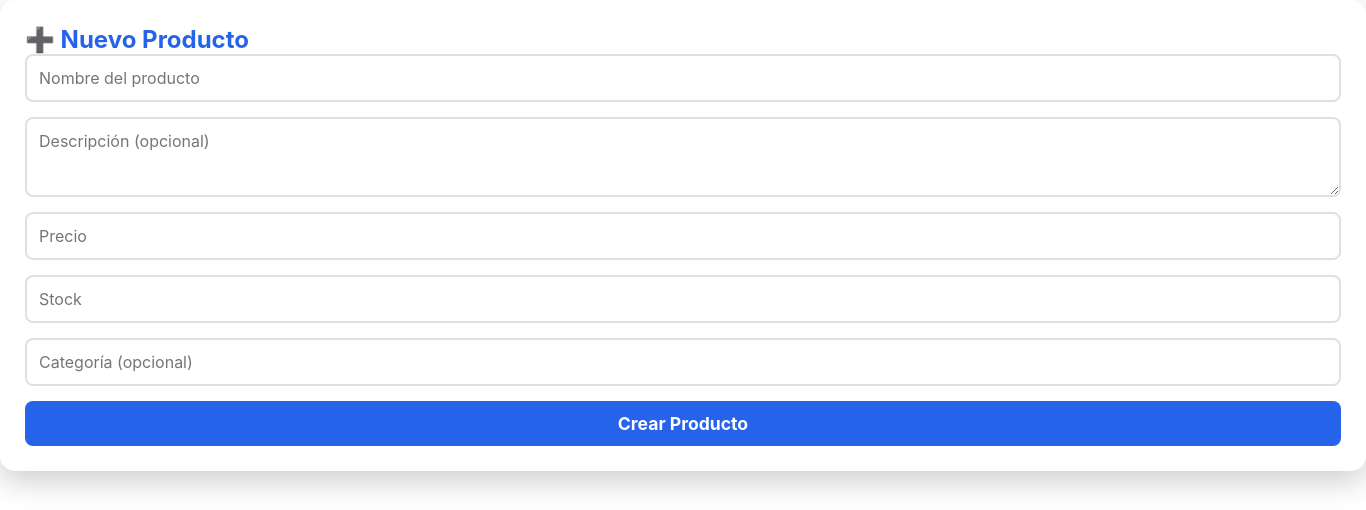
ProductoFormulario › debe deshabilitar campos y botón mientras está cargando
In the field with placeholder "Nombre del producto": (683, 78) [25,54,1341,102], type "Producto"
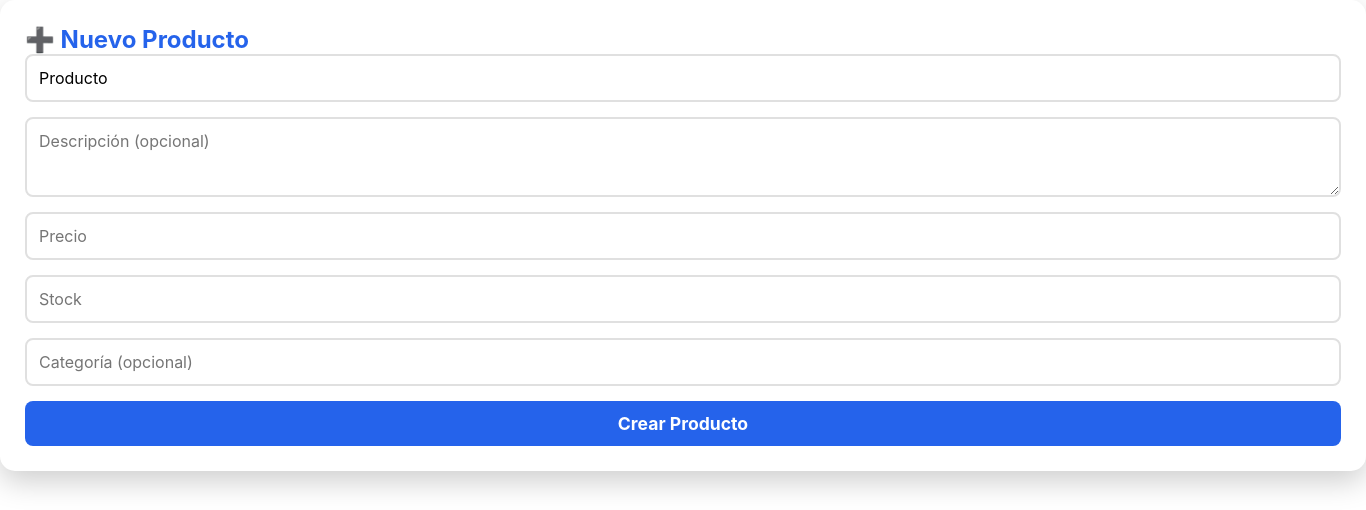
In the number field with placeholder "Precio": (683, 236) [25,212,1341,260], type "100"
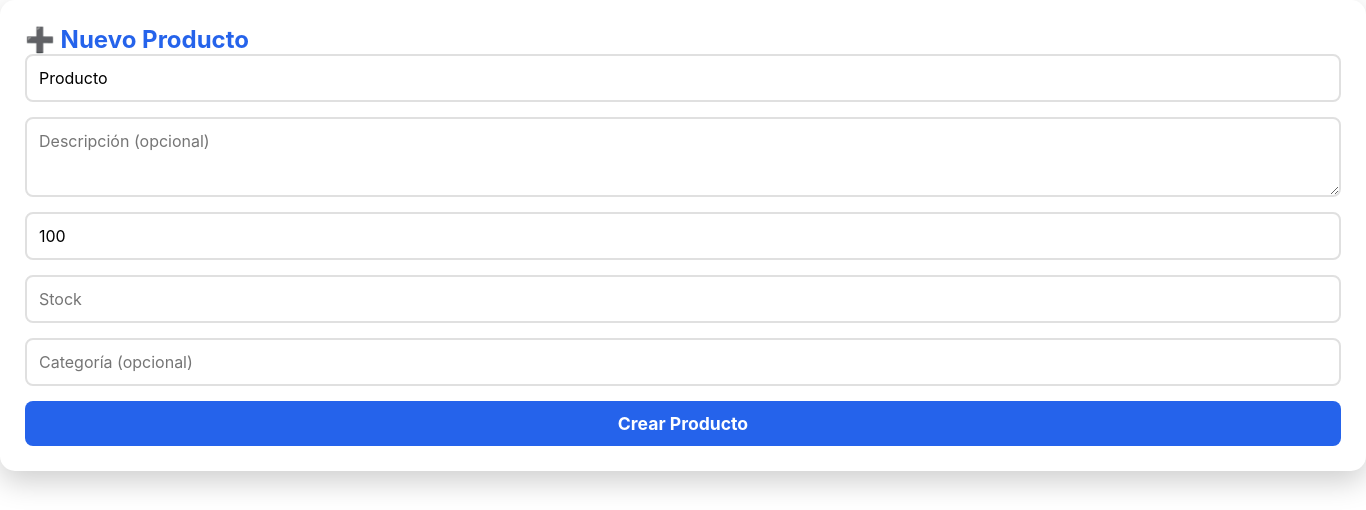
In the number field with placeholder "Stock": (683, 299) [25,275,1341,323], type "10"
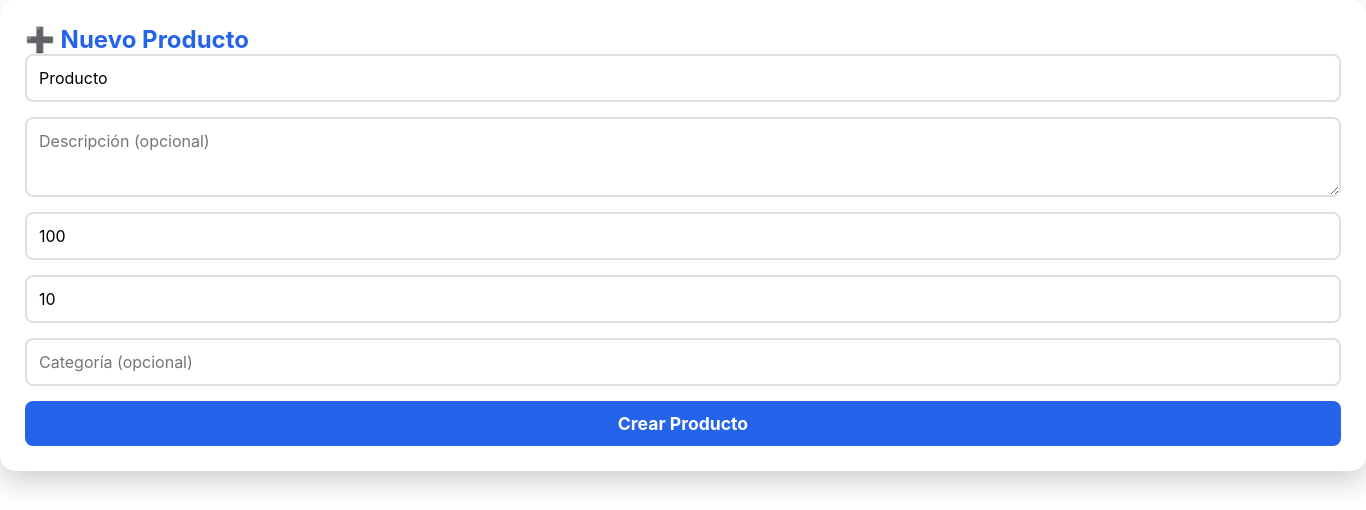
// Enviar formulario
Click the button "Crear Producto": (683, 424) [25,401,1341,446]
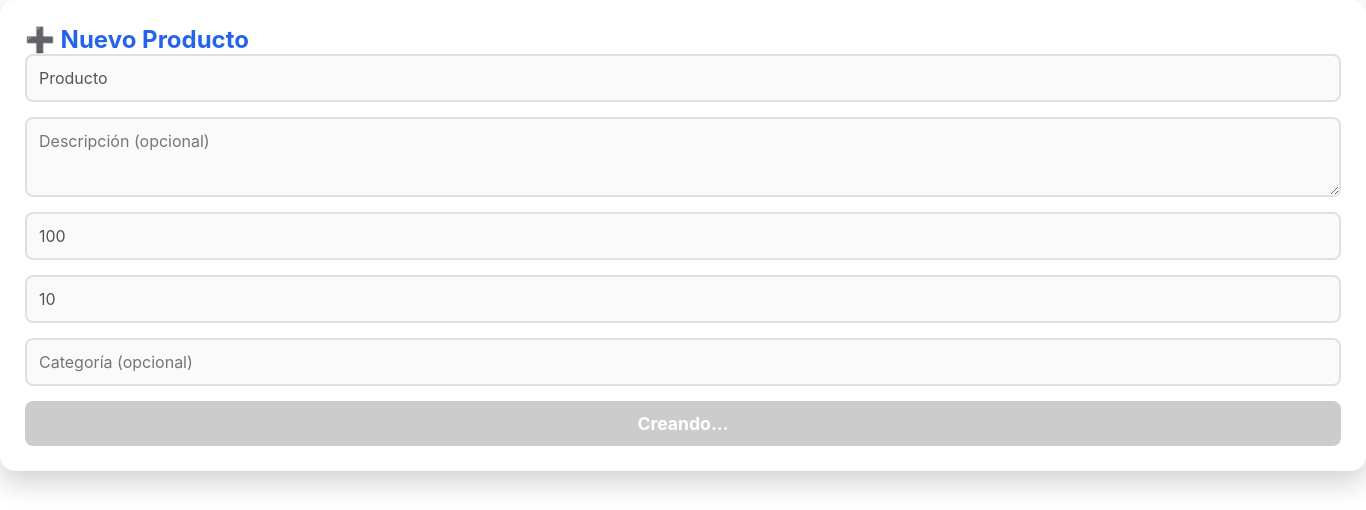
Now the button "Creando..." is disabled, box [25,401,1341,446]
Now the field with placeholder "Nombre del producto" is disabled, box [25,54,1341,102]
